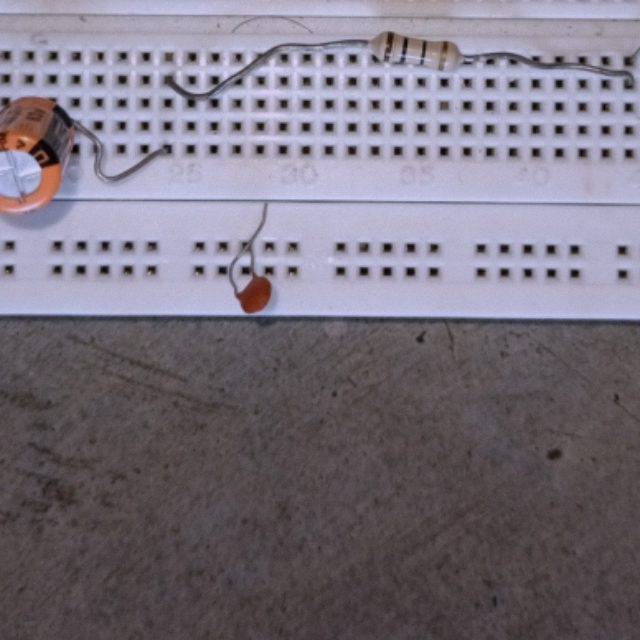capacitor: (0, 92, 79, 219), (230, 268, 274, 312)
resistor: (364, 28, 466, 74)
